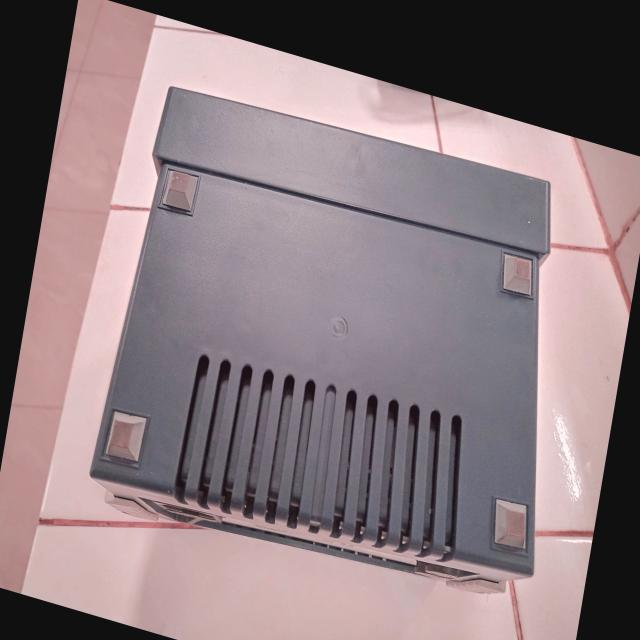Cobra 4 Xpert link Power Supply: (78, 54, 602, 634)
